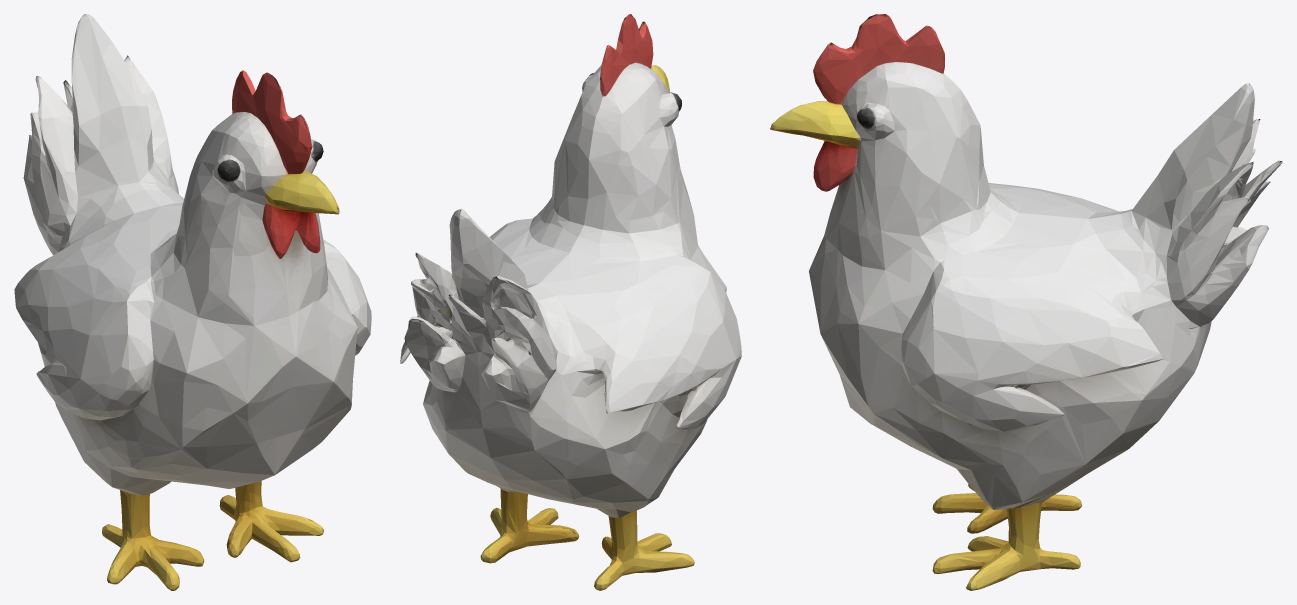
The model's file is chicken.glb.
3 views of the same model, side by side, from view 1: azimuth 30°, elevation 25°; view 2: azimuth 150°, elevation 25°; view 3: azimuth 270°, elevation 25° (orthographic). The views are drawn at different scales.
Visible parts, largest first — view 1: world; view 2: world; view 3: world.
Part boxes in pixels (<box>): world: <box>14,14,371,590</box>; world: <box>400,14,741,590</box>; world: <box>770,14,1282,590</box>.
Bounding box in the file's own units: 0.5689 × 0.9894 × 0.863.
1 material, 1 textured.
